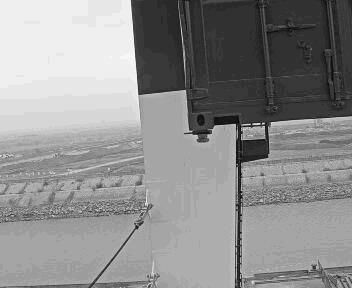twist_lock_1: (202, 126, 226, 148)
